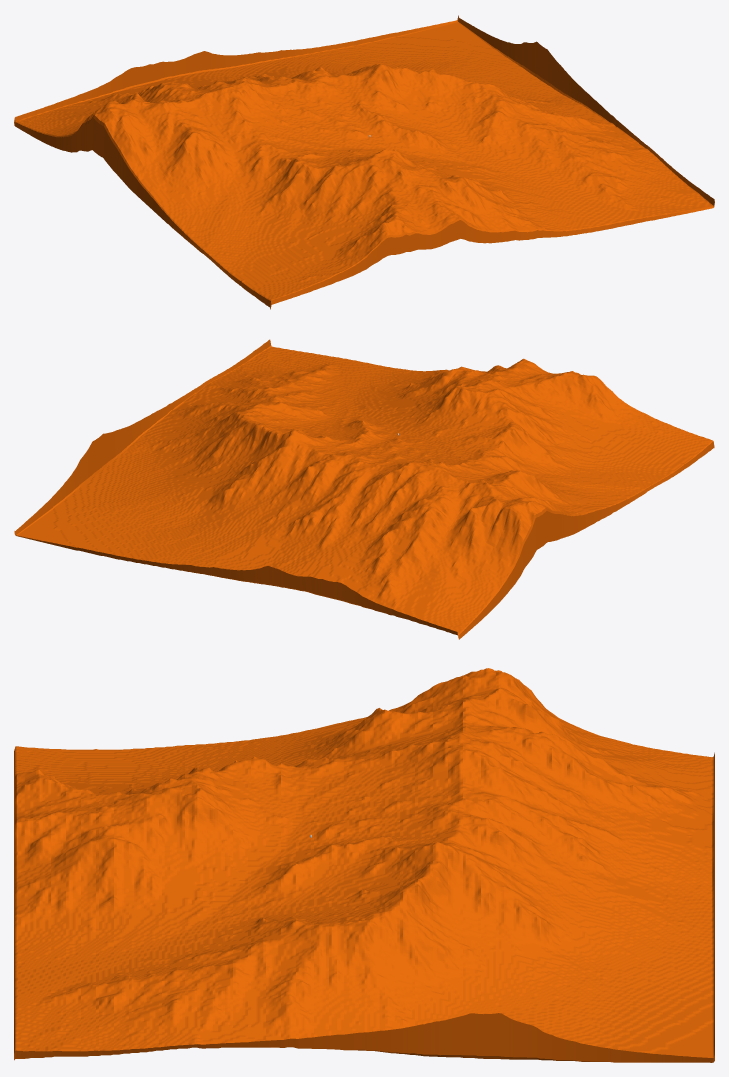
Rendered from landscapeTUDOCERTO.fbx.
3 renders of one model, top to bottom at view 1: azimuth 30°, elevation 25°; view 2: azimuth 150°, elevation 25°; view 3: azimuth 270°, elevation 25°, orthographic. The views are drawn at different scales.
Parts seen in each view (by area): view 1: Plane; view 2: Plane; view 3: Plane.
Boxes of the visible parts, box(x1,y1,x2,y2) form: Plane: box(14, 15, 714, 309); Plane: box(14, 339, 714, 639); Plane: box(14, 668, 714, 1062).
Bounding box in the file's own units: 10000 × 1740 × 10000.
